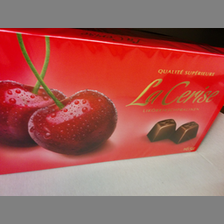chocolate: (1, 28, 224, 175)
